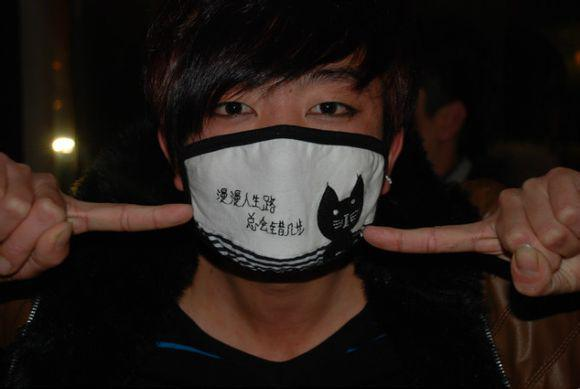OK: (182, 60, 381, 259)
